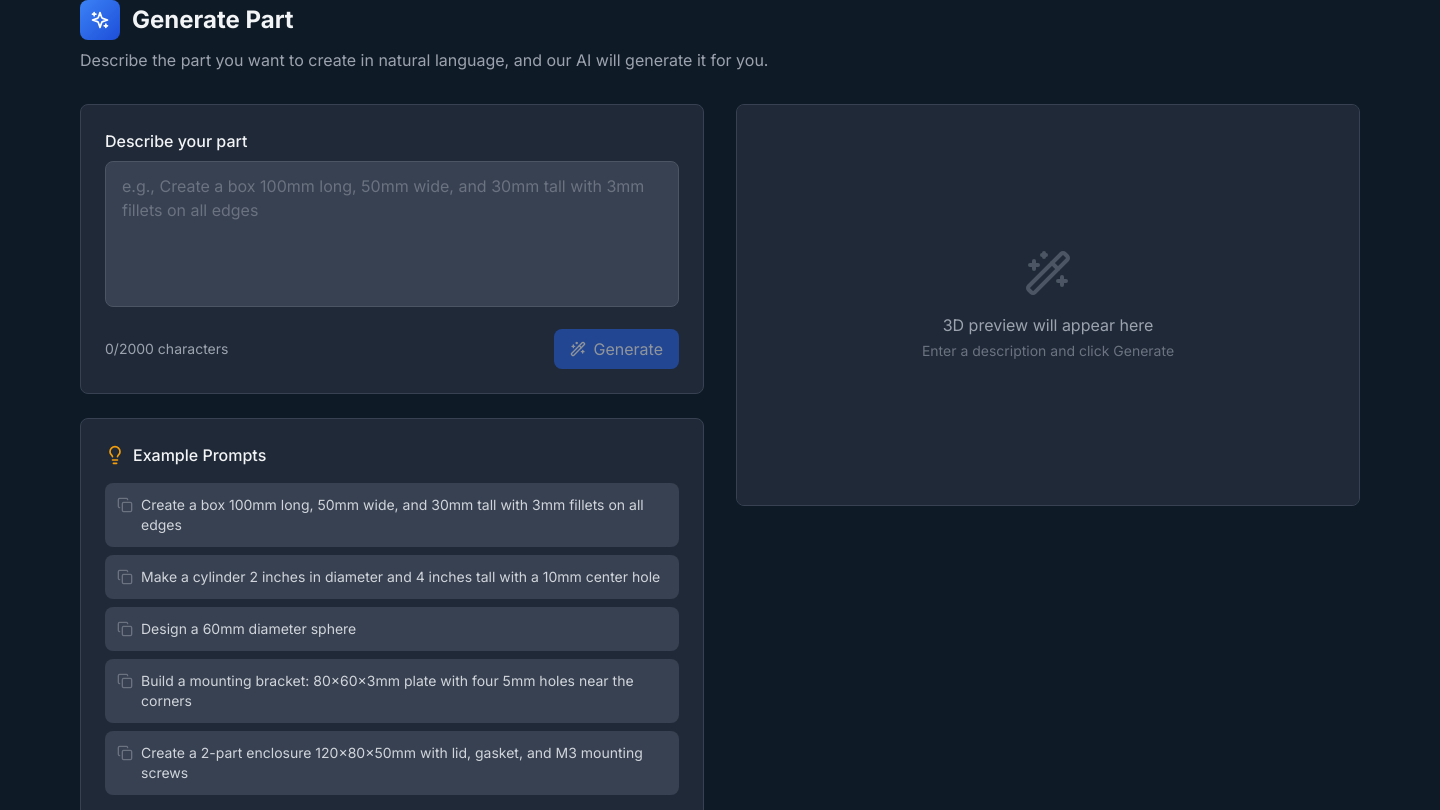
Test case: GeneratePage › uses example prompt on click
Click the 2nd button.
click(392, 515)  # box [105,483,679,547]
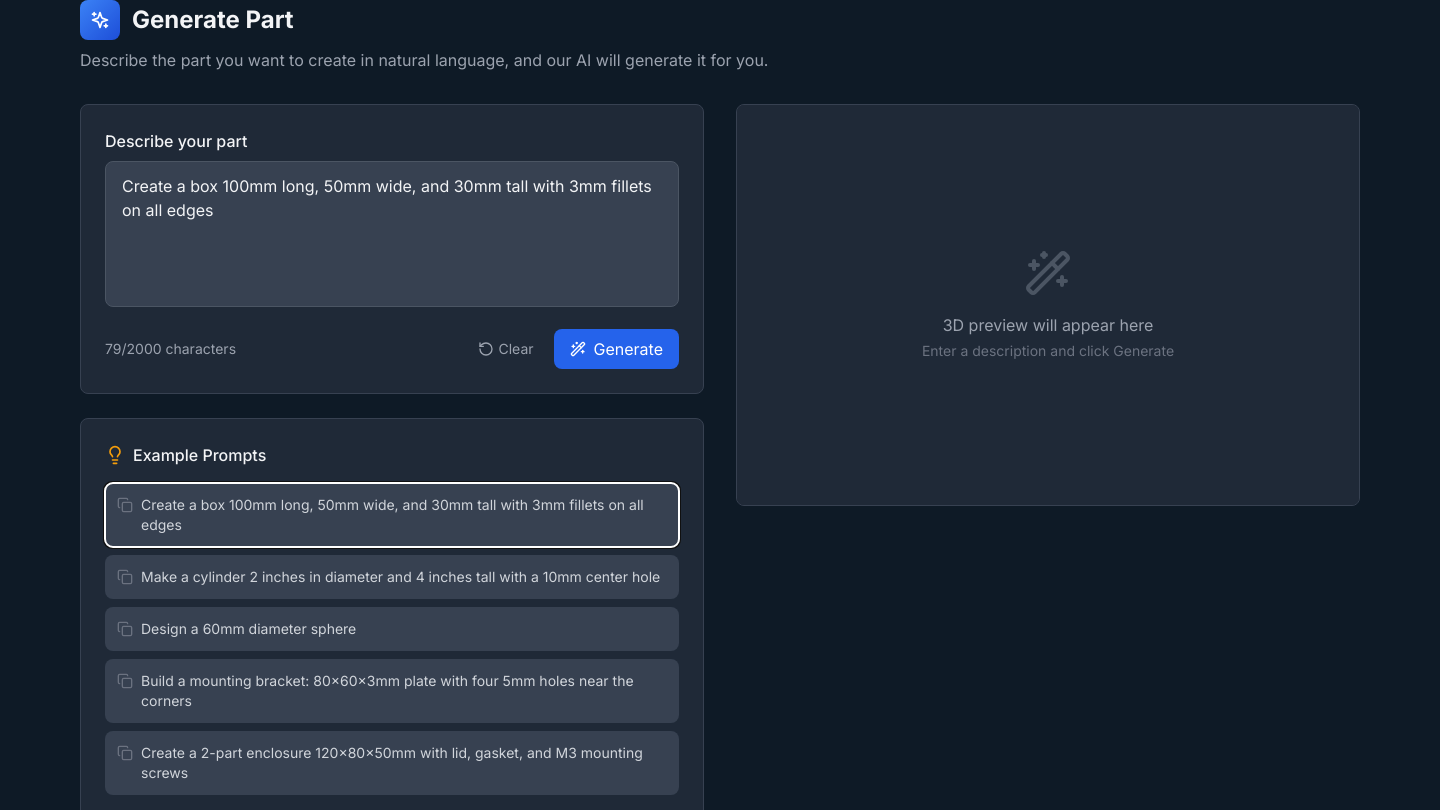
Result: the text box is not empty at [105,161,679,307]
